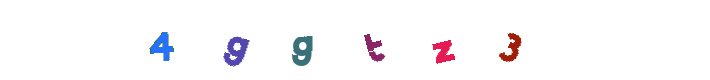3: (468, 0, 548, 80)
4: (122, 0, 202, 80)
G: (226, 0, 306, 80), (250, 0, 330, 80)
T: (316, 0, 396, 80)
Z: (376, 0, 456, 80)
